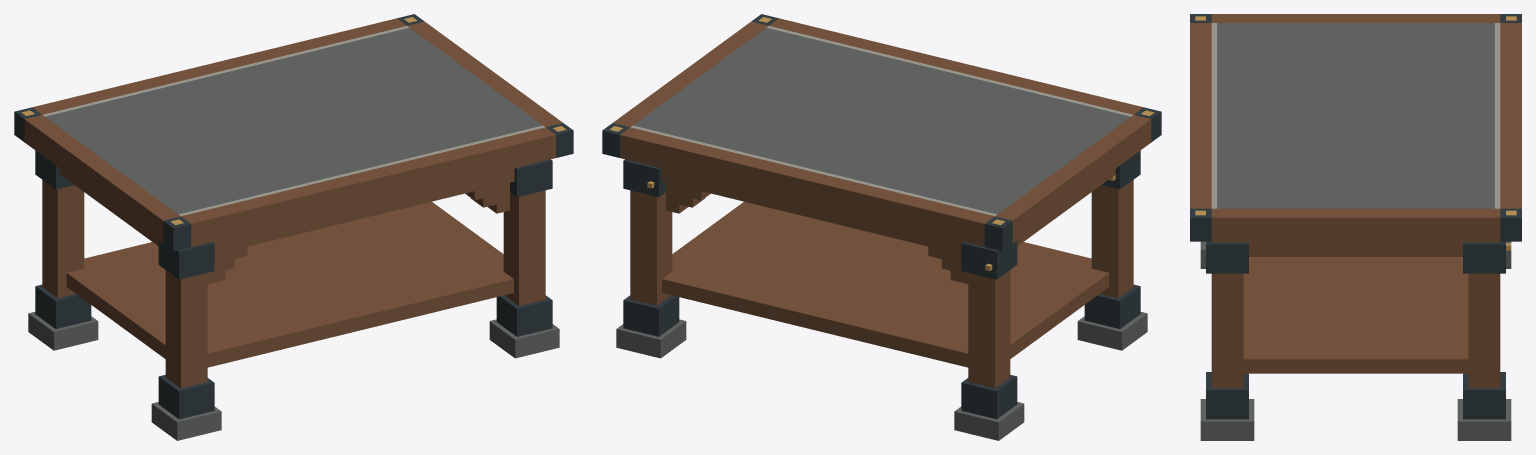
The model's file is visual-far.glb.
3 views of the same model, side by side, from view 1: azimuth 30°, elevation 25°; view 2: azimuth 150°, elevation 25°; view 3: azimuth 270°, elevation 25° (orthographic). The views are drawn at different scales.
Visible parts, largest first — view 1: 茶几台面, 茶几桌架; view 2: 茶几台面, 茶几桌架; view 3: 茶几台面, 茶几桌架.
Part boxes in pixels (x1=…): 茶几台面: x1=14, y1=14, x2=573, y2=251; 茶几桌架: x1=28, y1=150, x2=559, y2=440; 茶几台面: x1=602, y1=14, x2=1161, y2=251; 茶几桌架: x1=616, y1=150, x2=1147, y2=440; 茶几台面: x1=1190, y1=14, x2=1521, y2=241; 茶几桌架: x1=1200, y1=241, x2=1511, y2=440.
Bounding box in the file's own units: 0.9 × 0.47 × 0.62.
6 materials, 6 textured.
